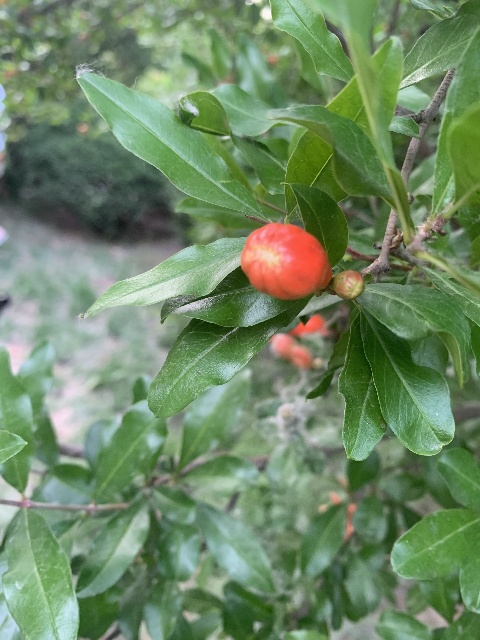bud: (240, 223, 331, 301), (333, 269, 364, 300)
